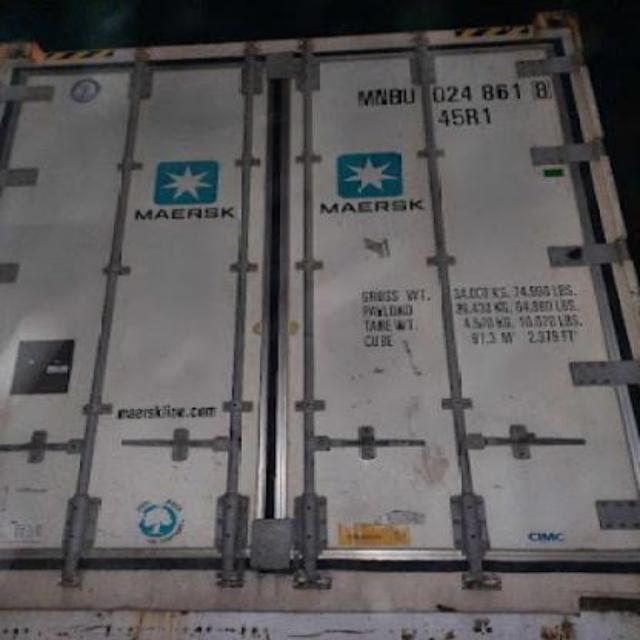0: (434, 85, 444, 105)
1: (512, 81, 526, 102)
2: (448, 84, 460, 104)
4: (462, 84, 474, 102)
6: (496, 81, 512, 102)
8: (534, 81, 548, 101), (484, 82, 492, 102)
B: (390, 87, 400, 105)
M: (356, 88, 376, 109)
N: (376, 88, 389, 108)
U: (404, 85, 414, 108)
